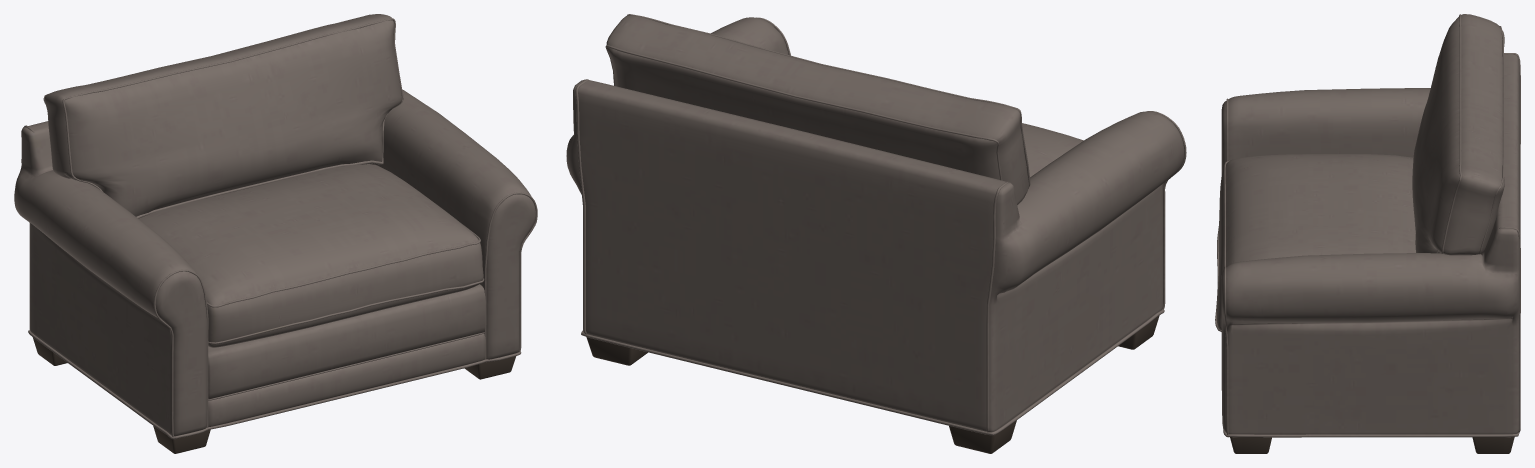
Rendered from abo-B07PBZ3VJ3.glb.
3 views of the same model, side by side, from view 1: azimuth 30°, elevation 25°; view 2: azimuth 150°, elevation 25°; view 3: azimuth 270°, elevation 25° (orthographic). The views are drawn at different scales.
Size of the model in its own units: 1.39 by 0.93 by 0.93.
1 material, 1 textured.
